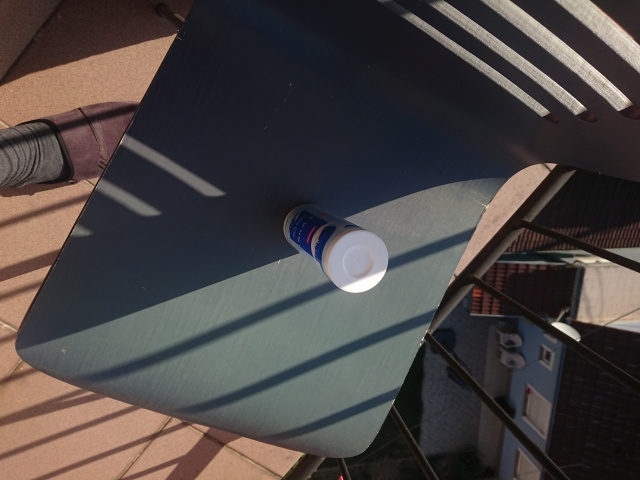Solana Pag Fine Sea Salt 250g: (279, 200, 391, 297)
